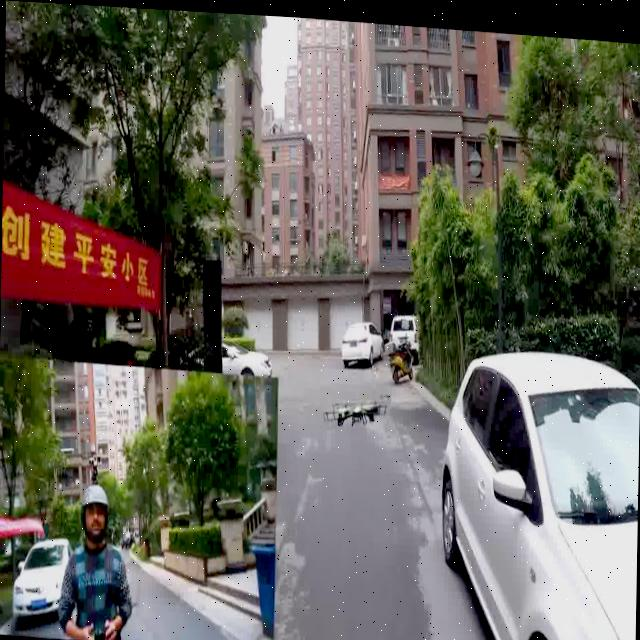drone: (316, 375, 392, 449)
